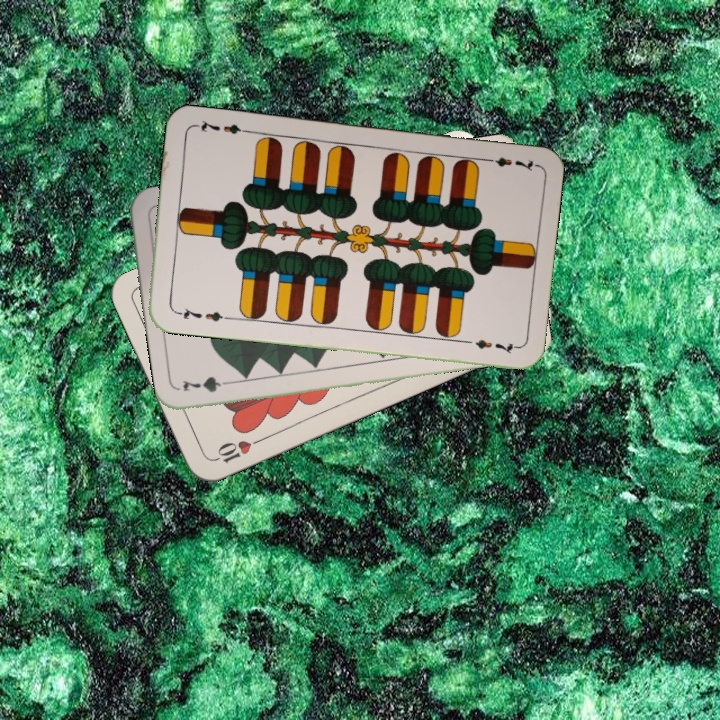E7: (171, 304, 230, 325), (479, 153, 538, 174)
G7: (178, 372, 238, 395)
H10: (208, 434, 264, 466)
